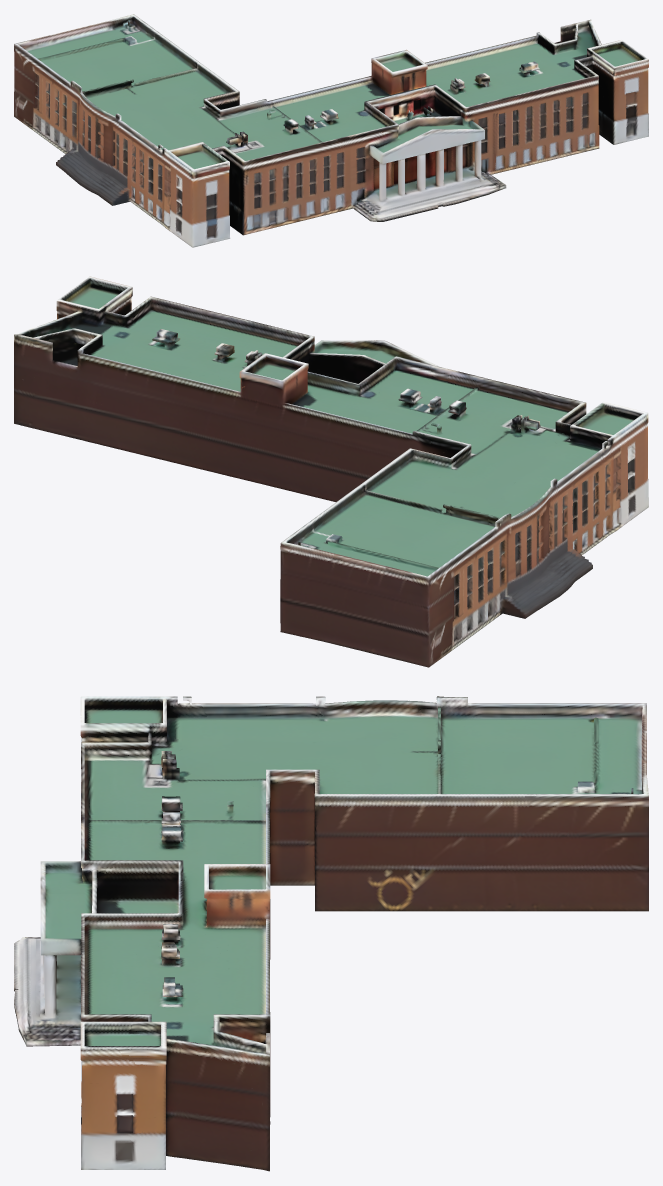
Rendered from base_basic_shaded.fbx.
The picture shows the model from 3 angles, top to bottom: view 1: azimuth 30°, elevation 25°; view 2: azimuth 150°, elevation 25°; view 3: azimuth 270°, elevation 25°; orthographic projection. The views are drawn at different scales.
Visible parts, largest first — view 1: model; view 2: model; view 3: model.
Boxes of the visible parts, left/top/right/bottom form: model: left=14, top=14, right=648, bottom=247; model: left=14, top=276, right=648, bottom=667; model: left=14, top=696, right=648, bottom=1171.
Bounding box in the file's own units: 178 × 31.18 × 130.
